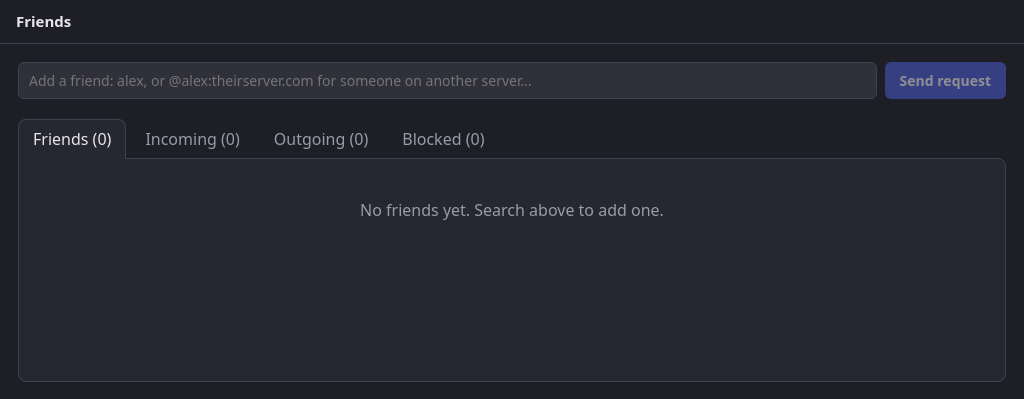
the add-a-friend search results › closes the list when adding fails with request_already_pending
Replace the text in the dropdown with "bo": (447,80) [18, 62, 877, 99]
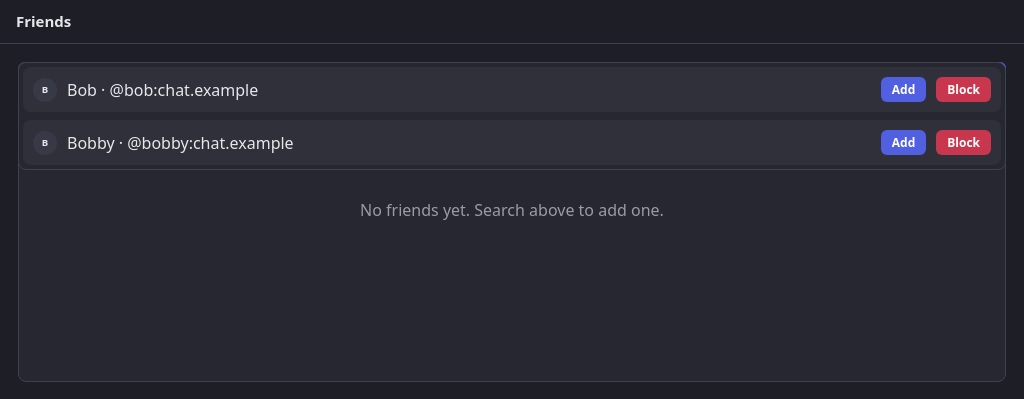
Result: the text "Bob · @bob:chat.example" is shown at [67, 78, 258, 100]
Click the button "Add" in the row of "@bob:chat.example": (904,90) [881, 77, 926, 102]
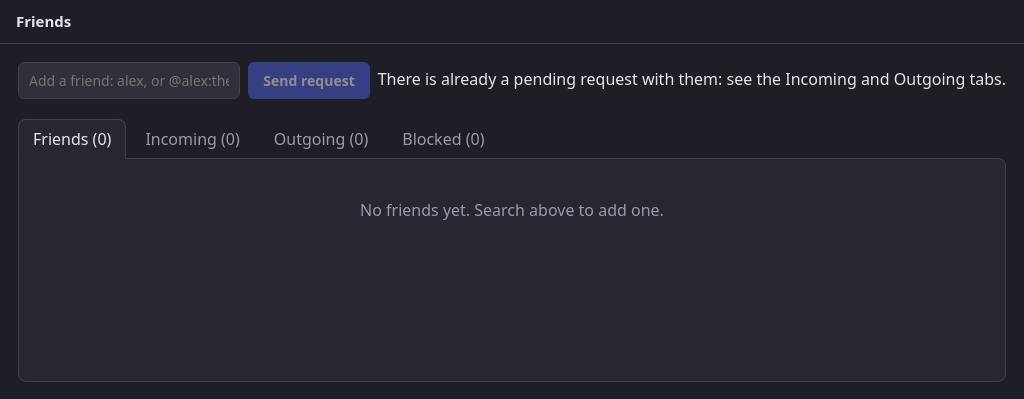
Result: the text "already a pending request" is shown at [378, 68, 1006, 90]
Result: the text "Bob · @bob:chat.example" is gone
